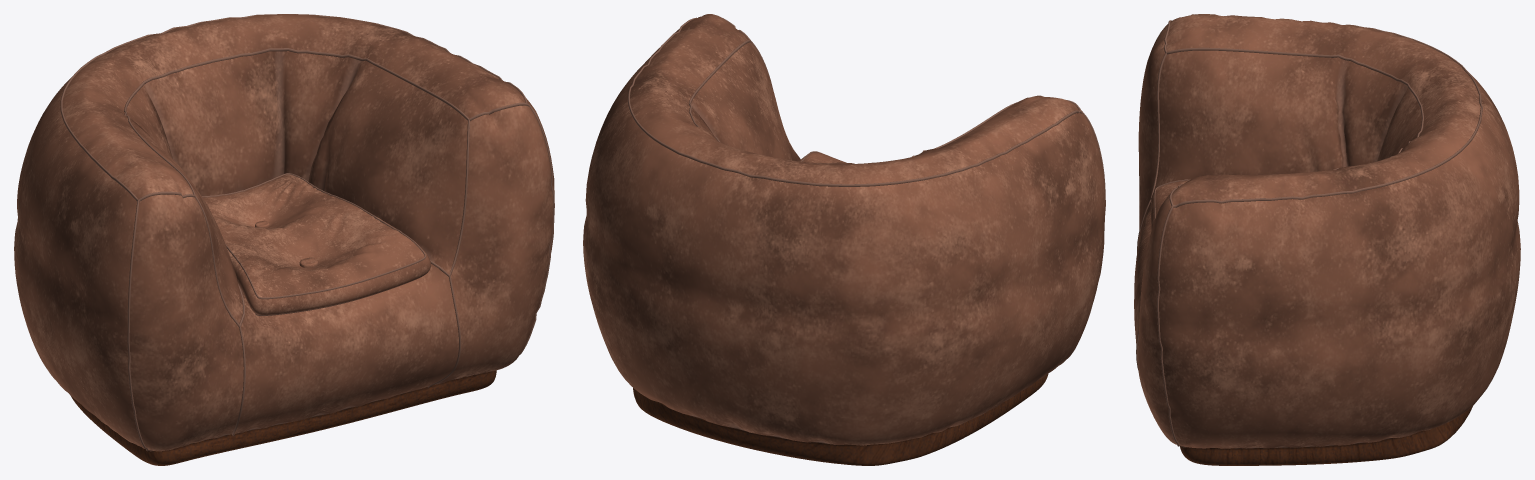
Rendered from individual_sofa_leather.glb.
The picture shows the model from 3 angles, left to right: view 1: azimuth 30°, elevation 25°; view 2: azimuth 150°, elevation 25°; view 3: azimuth 270°, elevation 25°; orthographic projection. The views are drawn at different scales.
Visible parts, largest first — view 1: sfa_low, almohada_low, costuraalmohada, costuraalmohada.001; view 2: sfa_low, costuraalmohada; view 3: sfa_low, costuraalmohada, almohada_low.
Part boxes in pixels (x1=…): sfa_low: x1=14, y1=14, x2=554, y2=465; almohada_low: x1=202, y1=174, x2=430, y2=315; costuraalmohada: x1=60, y1=14, x2=554, y2=451; costuraalmohada.001: x1=202, y1=173, x2=426, y2=315; sfa_low: x1=583, y1=14, x2=1105, y2=465; costuraalmohada: x1=628, y1=15, x2=1105, y2=230; sfa_low: x1=1134, y1=14, x2=1520, y2=465; costuraalmohada: x1=1136, y1=15, x2=1482, y2=447; almohada_low: x1=1151, y1=180, x2=1188, y2=230.
Size of the model in its own units: 1.44 by 0.9092 by 1.09.
5 materials, 4 textured.
